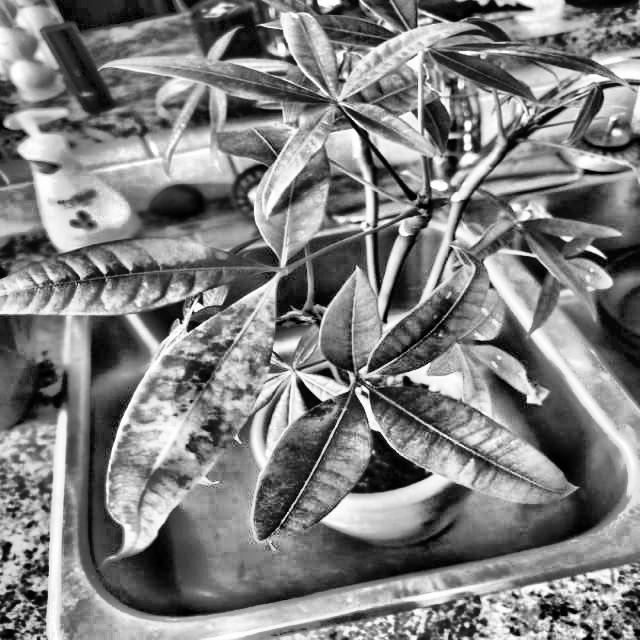plants: (5, 0, 640, 559)
